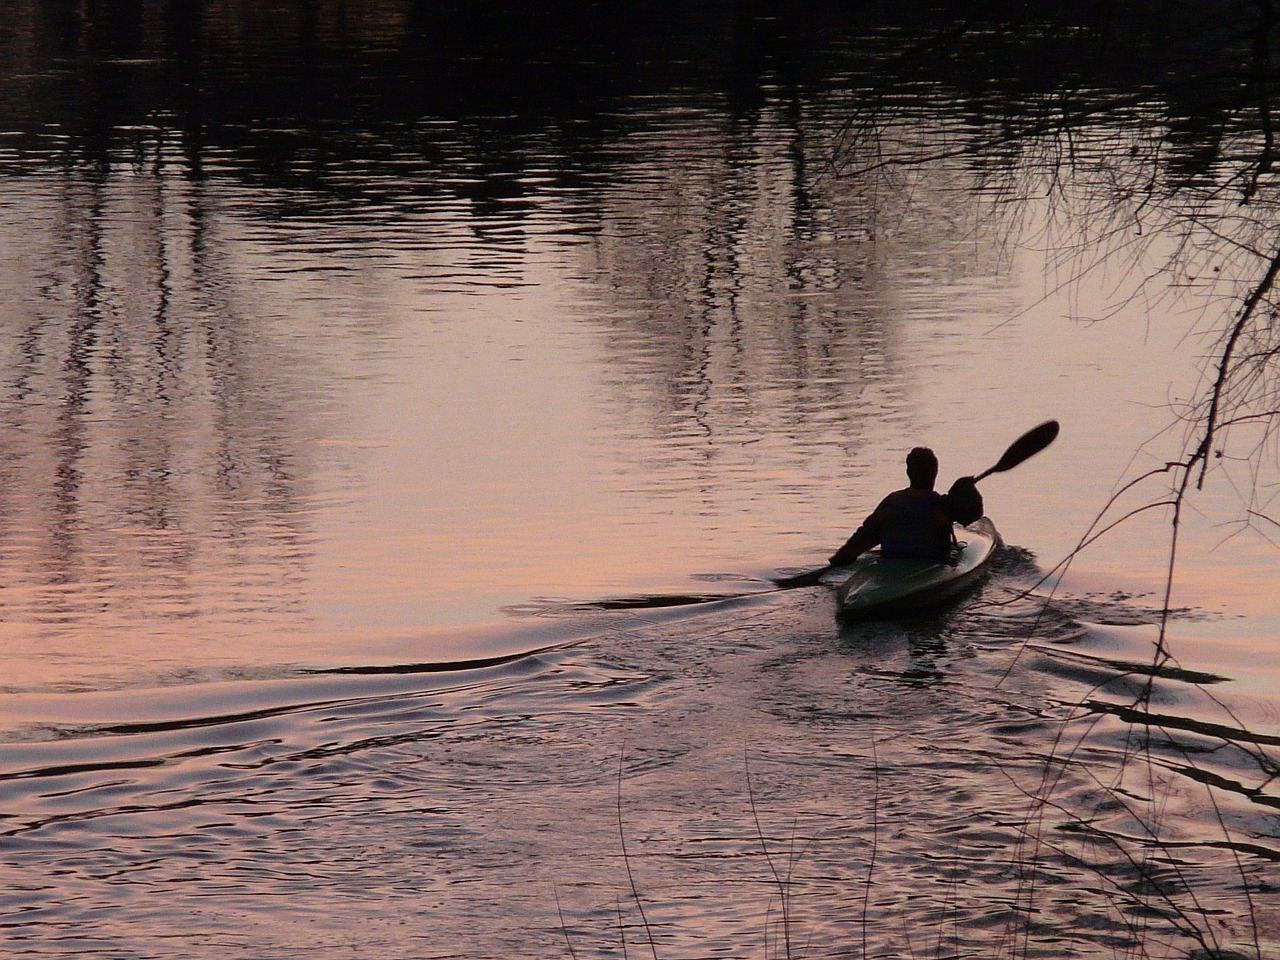kayak: (836, 512, 1002, 636)
